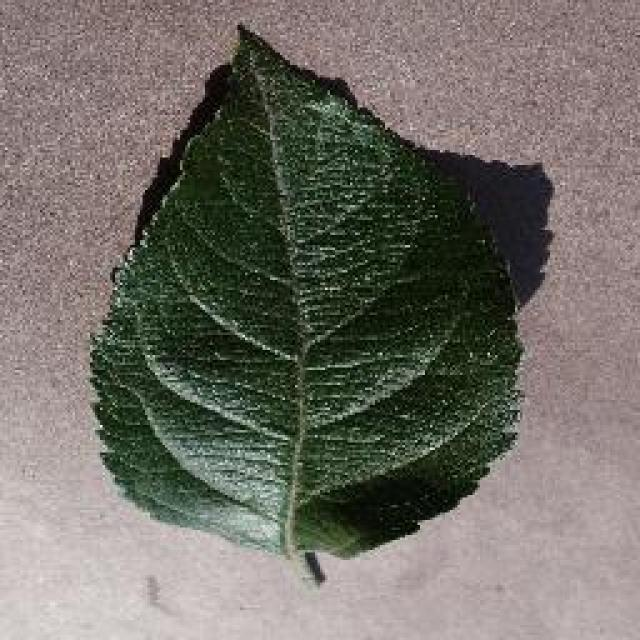apple healthy: (85, 20, 527, 585)
